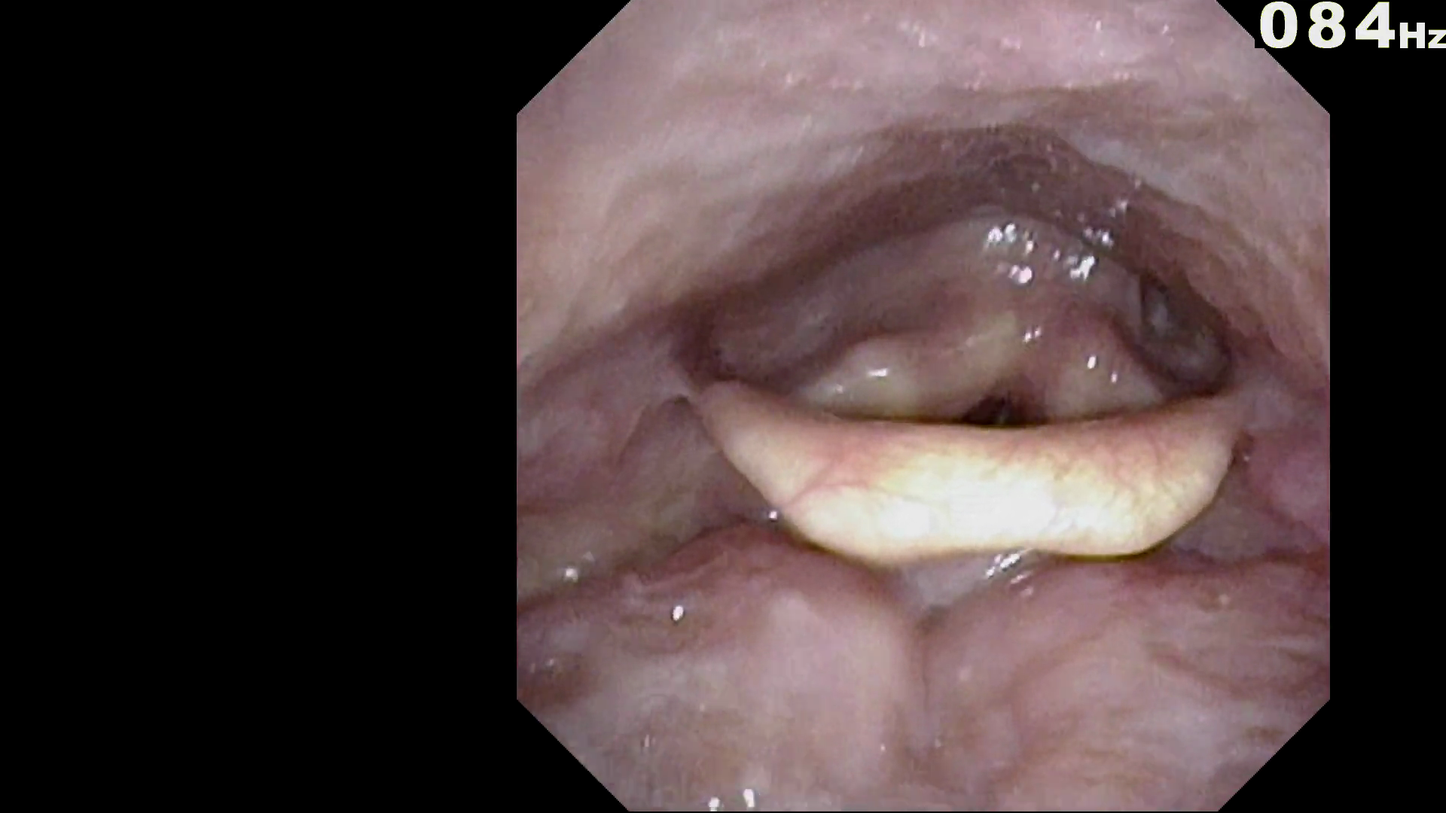epiglottis: (677, 335, 1274, 630)
trachea: (944, 371, 1042, 474)
